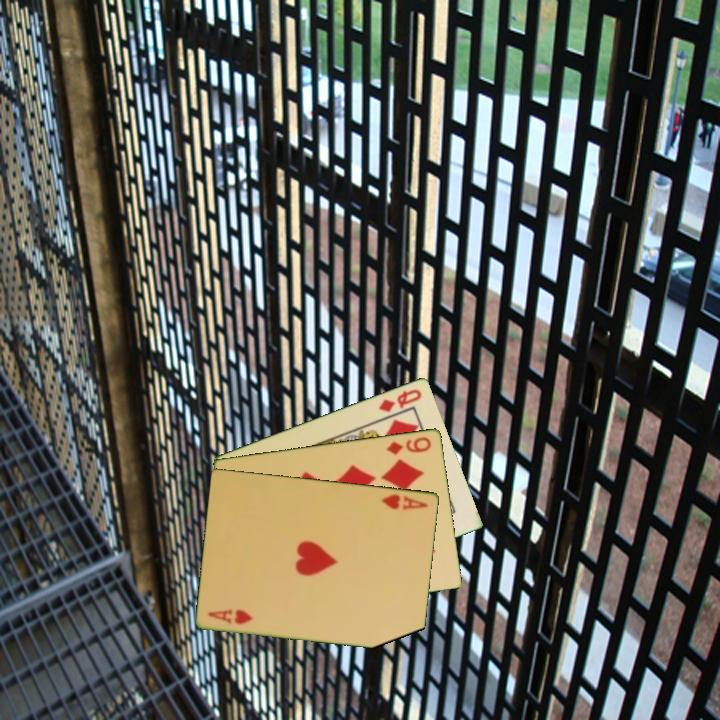9d: (383, 433, 434, 458)
Ah: (378, 490, 431, 513), (204, 605, 256, 627)
Qd: (375, 385, 425, 415)
